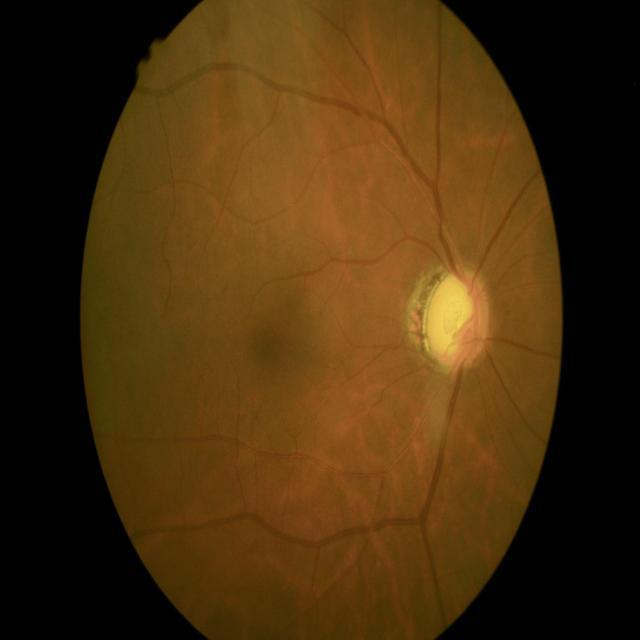cup: (429, 275, 479, 363)
disk: (426, 266, 490, 374)
